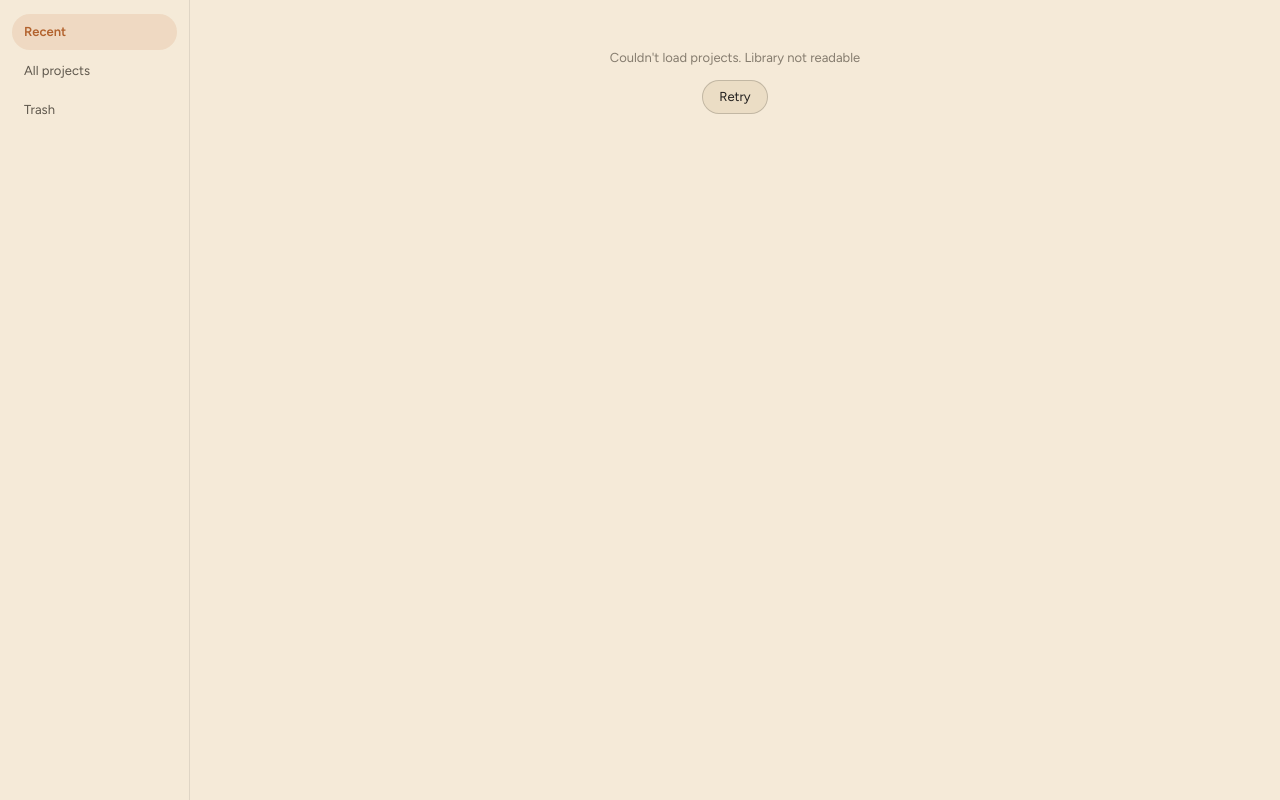
Test: ProjectsContainer: lists › list failure → error with Retry
Expected: the message shows "Library not readable", 610,50 -> 860,65
Click the button "Retry": (735, 97) 702,80 -> 768,114
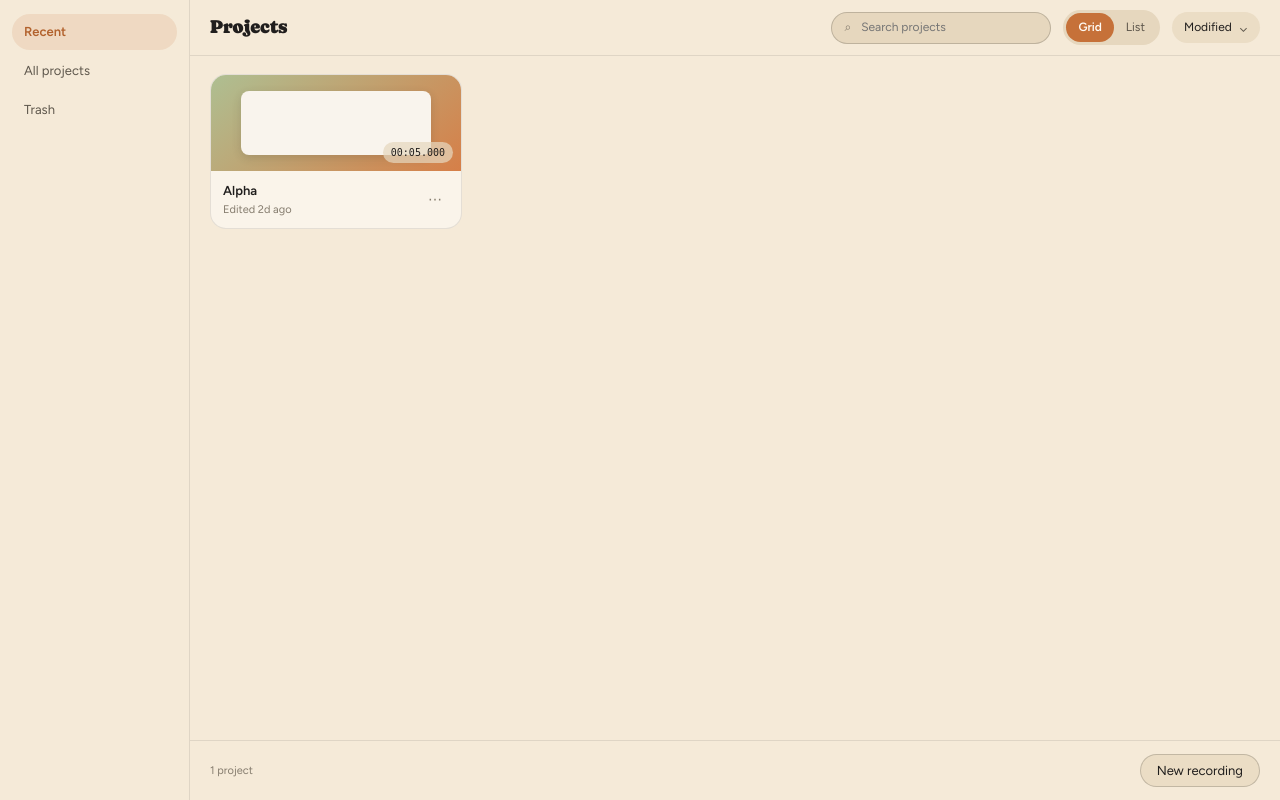
Now the button with aria-label "Open Alpha" is shown, box 210,74 -> 462,229
